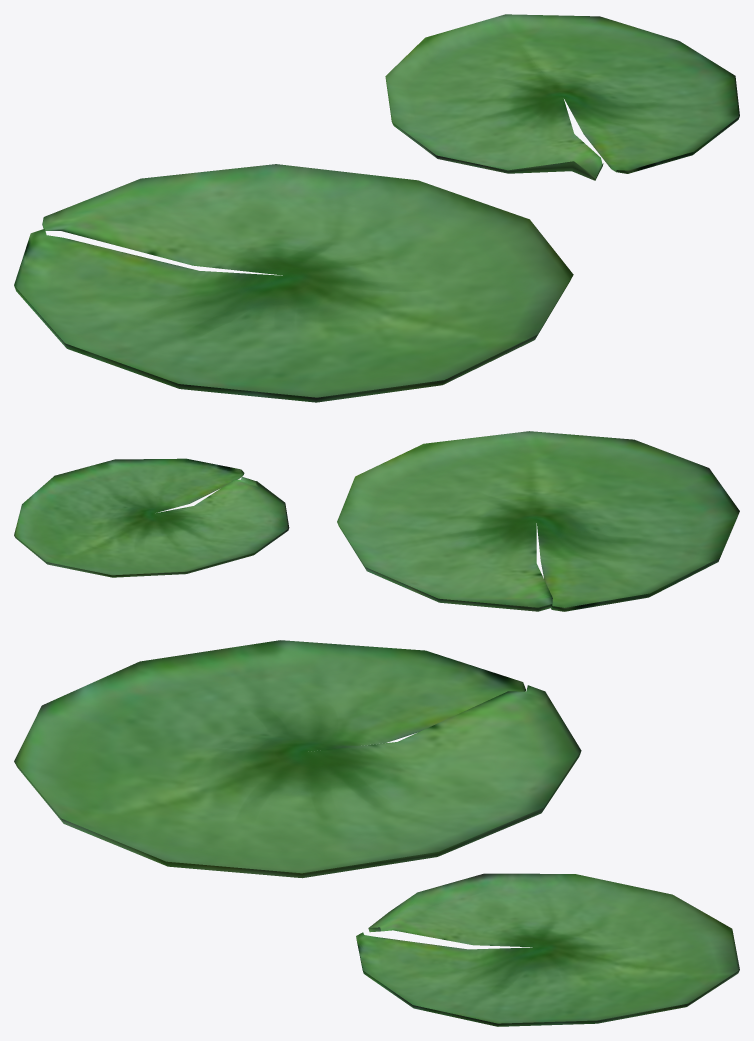
The model's file is LilyPad.fbx.
3 views of the same model, one above another, from view 1: azimuth 30°, elevation 25°; view 2: azimuth 150°, elevation 25°; view 3: azimuth 270°, elevation 25° (orthographic). The views are drawn at different scales.
Parts seen in each view (by area): view 1: Circle.001; view 2: Circle.001; view 3: Circle.001.
Boxes of the visible parts, x1=… form: Circle.001: x1=14, y1=14, x2=739, y2=402; Circle.001: x1=14, y1=431, x2=739, y2=611; Circle.001: x1=14, y1=640, x2=739, y2=1026.
Bounding box in the file's own units: 136 × 3.07 × 109.
